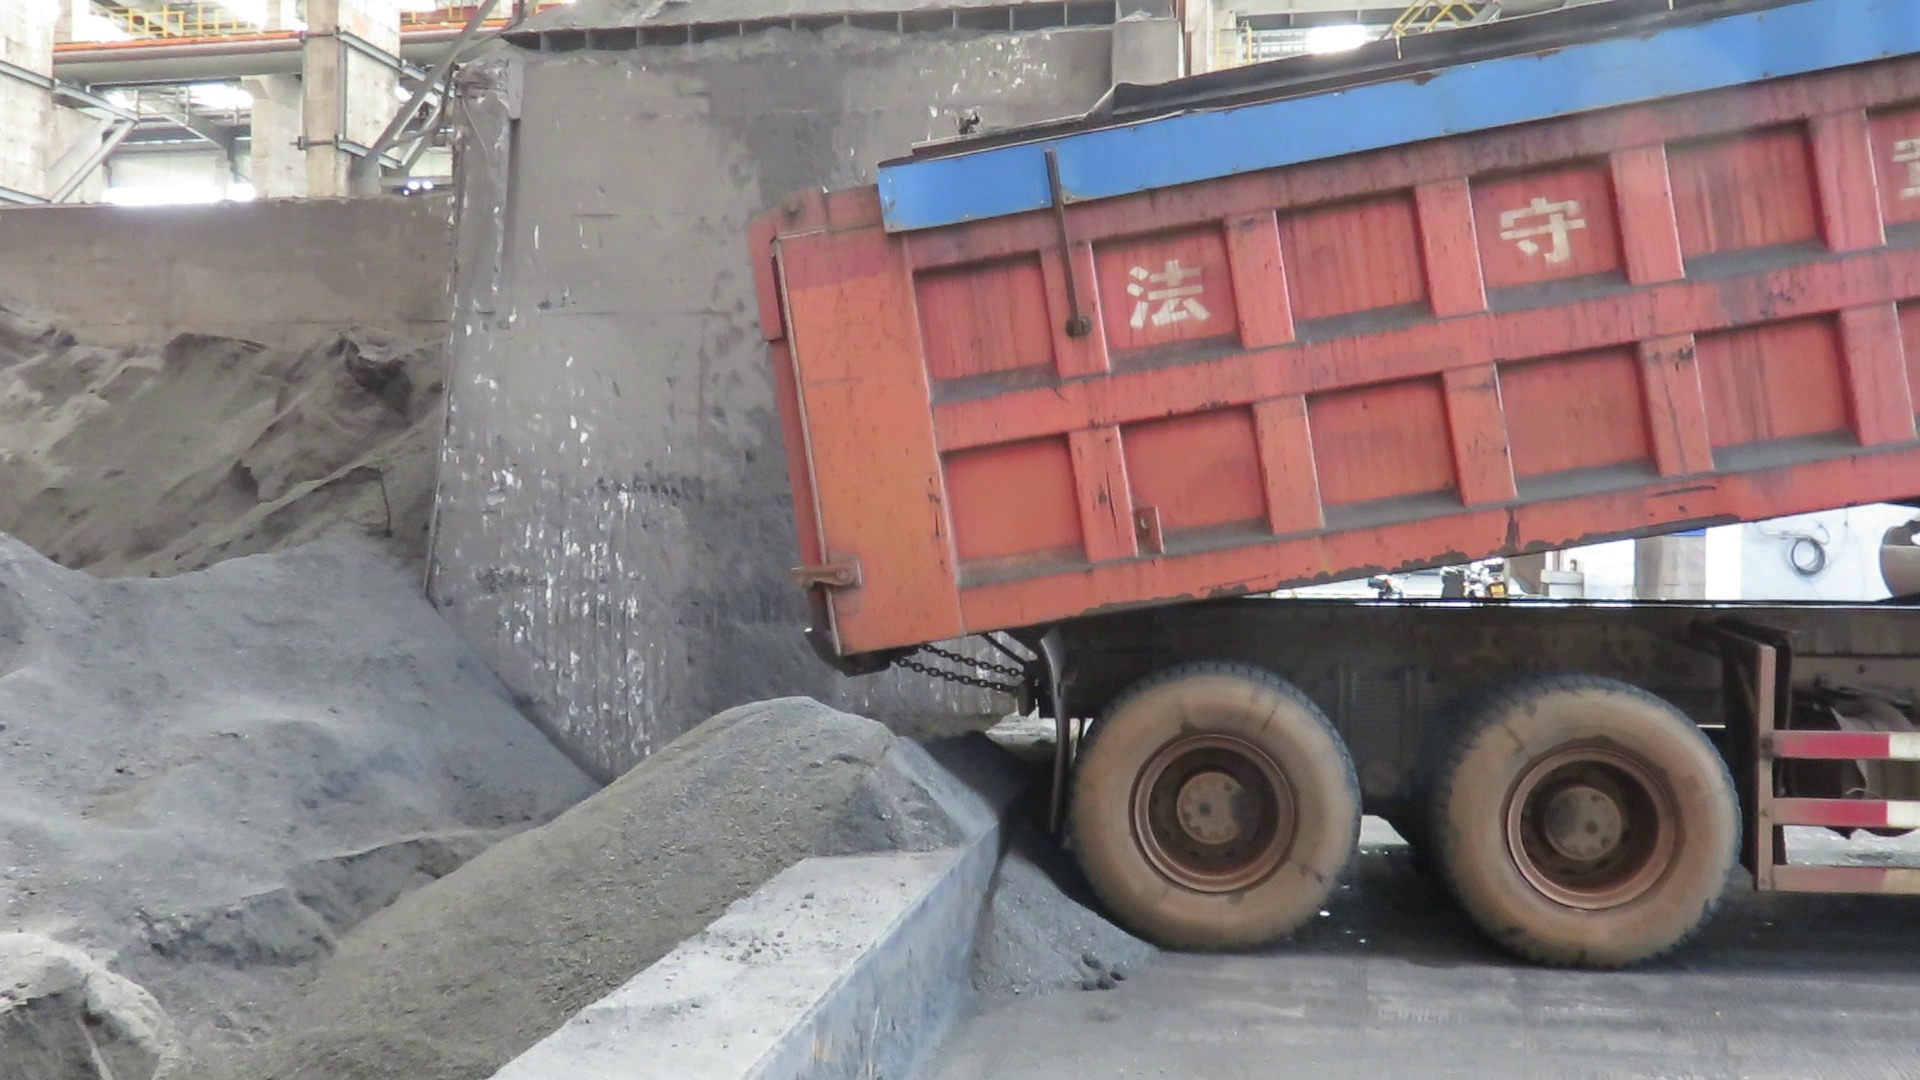truck: (746, 0, 1920, 982)
